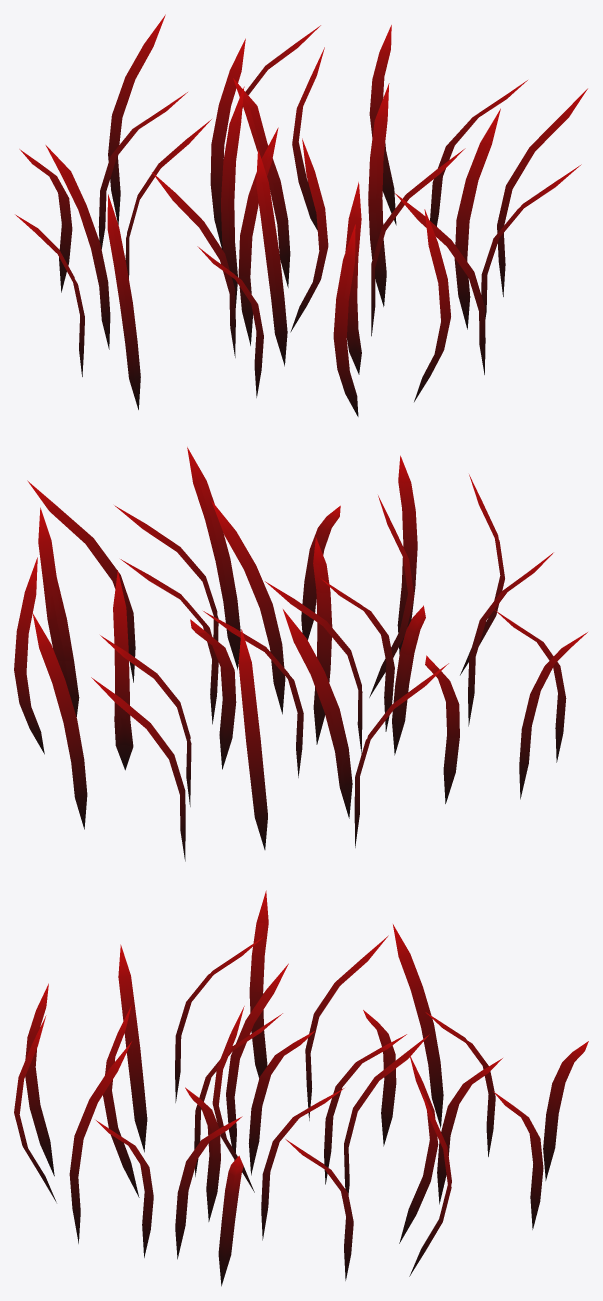
Rendered from grass.fbx.
The picture shows the model from 3 angles, top to bottom: view 1: azimuth 30°, elevation 25°; view 2: azimuth 150°, elevation 25°; view 3: azimuth 270°, elevation 25°; orthographic projection. The views are drawn at different scales.
Parts seen in each view (by area): view 1: grass; view 2: grass; view 3: grass.
Boxes of the visible parts, <box> form: grass: <box>15,14,587,416</box>; grass: <box>14,447,587,861</box>; grass: <box>14,890,588,1286</box>.
Bounding box in the file's own units: 79.44 × 27.47 × 72.78.
